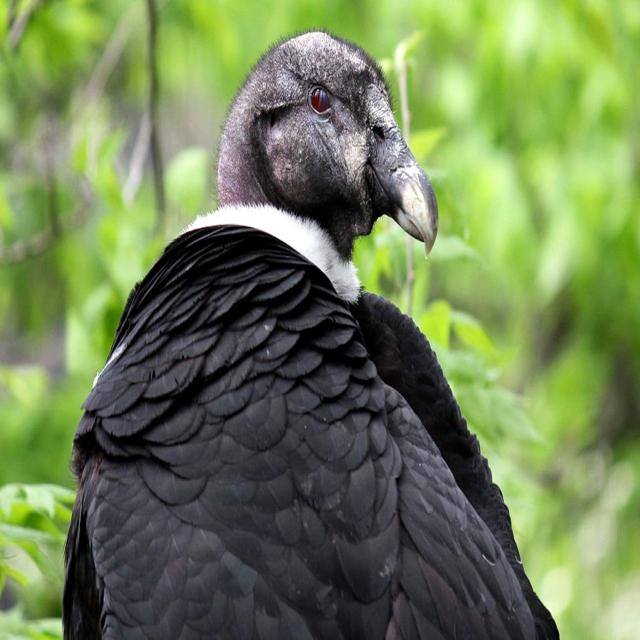Carnivorous: (61, 30, 561, 640)
